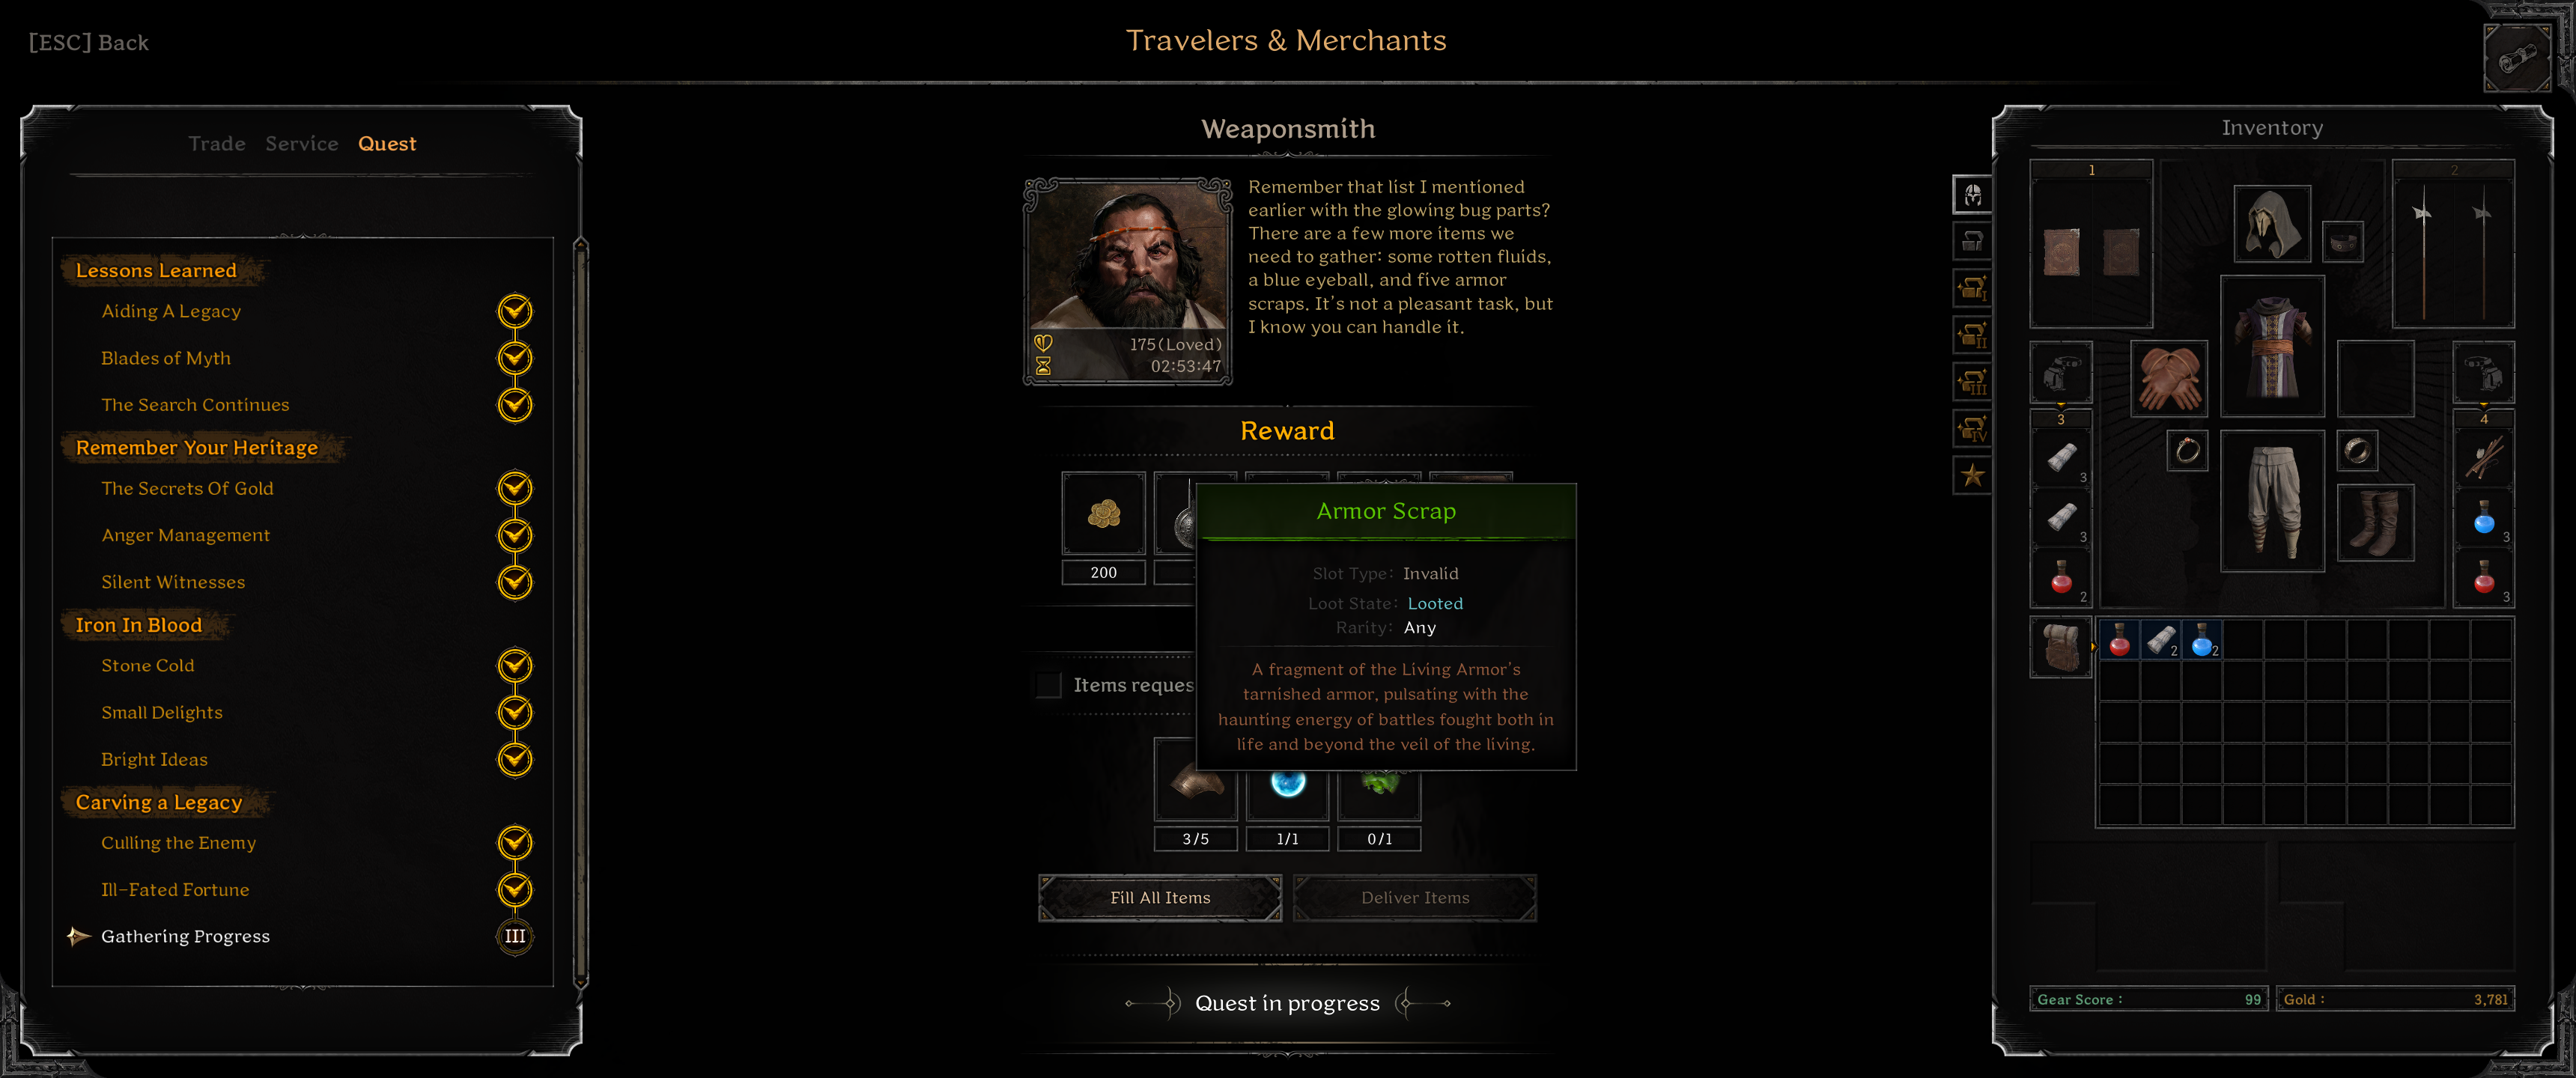Tooltip: (1194, 481, 1577, 771)
